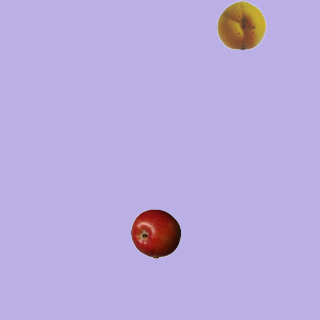Apple Braeburn: (130, 208, 180, 258)
Peach 2: (216, 0, 266, 49)
